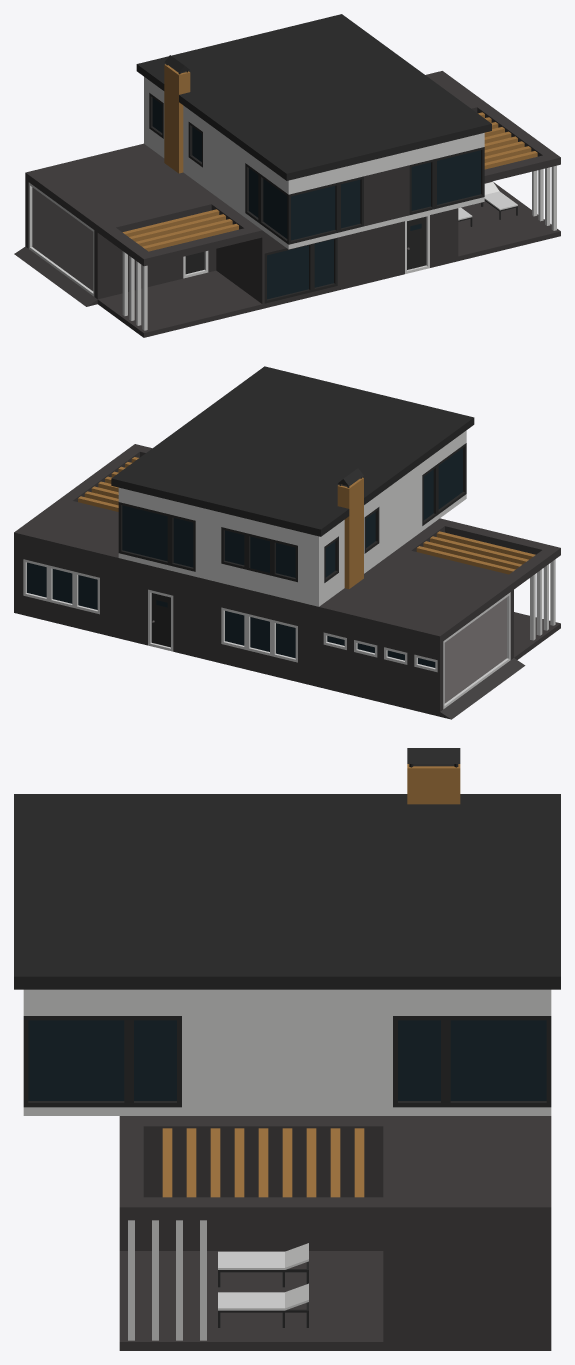
Rendered from building-house-modern-big.glb.
3 renders of one model, top to bottom at view 1: azimuth 30°, elevation 25°; view 2: azimuth 150°, elevation 25°; view 3: azimuth 270°, elevation 25°, orthographic. The views are drawn at different scales.
Parts seen in each view (by area): view 1: building-house-modern-big; view 2: building-house-modern-big; view 3: building-house-modern-big.
Part boxes in pixels (box(x1,y1,x2,y2)): building-house-modern-big: box(14, 14, 560, 337); building-house-modern-big: box(14, 366, 560, 719); building-house-modern-big: box(14, 748, 560, 1350).
Bounding box in the file's own units: 18.8 × 7.77 × 11.4.
Materials: 1 (1 with a texture image).
